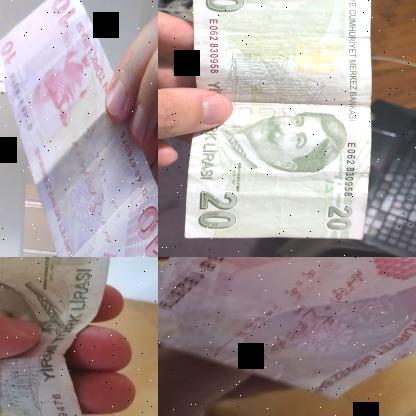5 TL: (0, 0, 157, 256)
